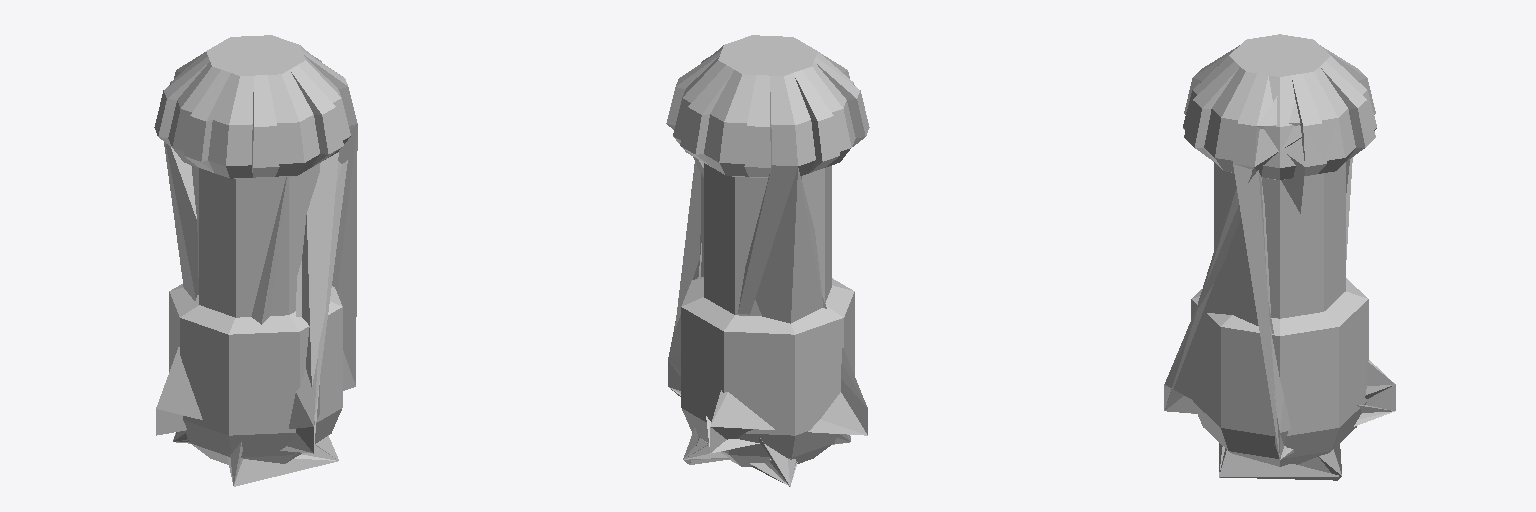
Rendered from Incendiary Grenade.obj.
3 renders of one model, left to right at view 1: azimuth 30°, elevation 25°; view 2: azimuth 150°, elevation 25°; view 3: azimuth 270°, elevation 25°, orthographic.
Visible parts, largest first — view 1: default_default1, ground_point; view 2: default_default1, ground_point; view 3: default_default1, ground_point.
Boxes of the visible parts, box(x1,y1,x2,y2) form: default_default1: box(154, 35, 357, 464); ground_point: box(156, 58, 357, 486); default_default1: box(666, 35, 869, 485); ground_point: box(668, 52, 867, 486); default_default1: box(1164, 34, 1395, 475); ground_point: box(1165, 75, 1394, 480).
Bounding box in the file's own units: 5.26 × 10.06 × 5.26.